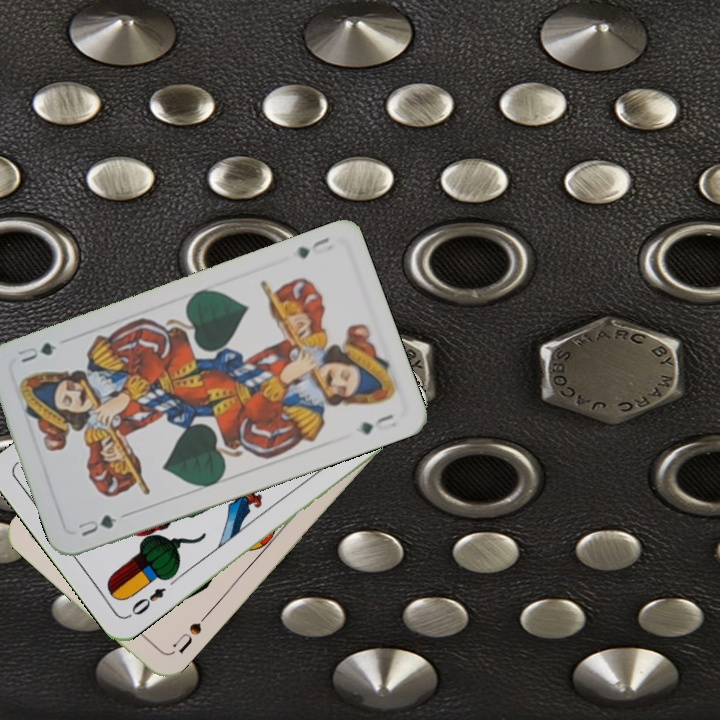EO: (127, 583, 169, 618)
GU: (74, 510, 120, 540), (293, 233, 332, 261)
SU: (169, 609, 211, 656)
